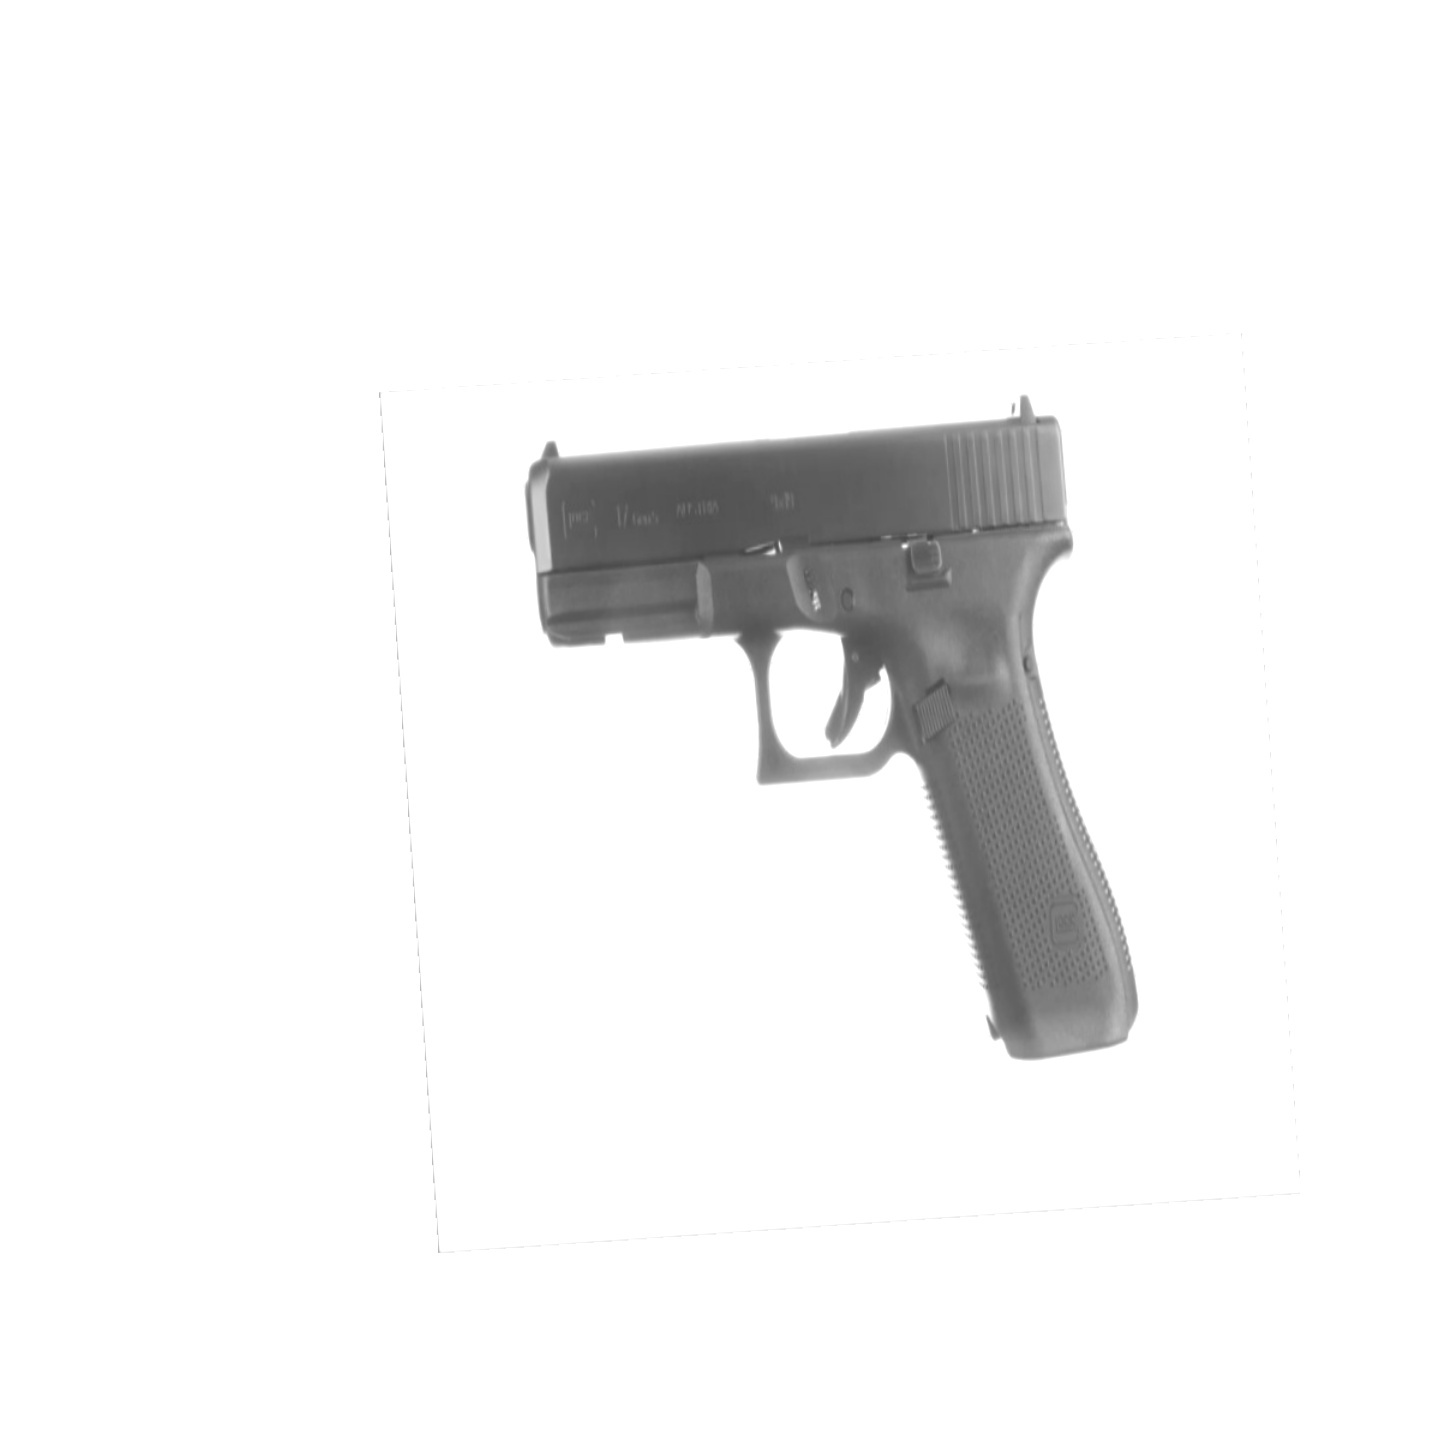gun: (520, 392, 1160, 1067)
